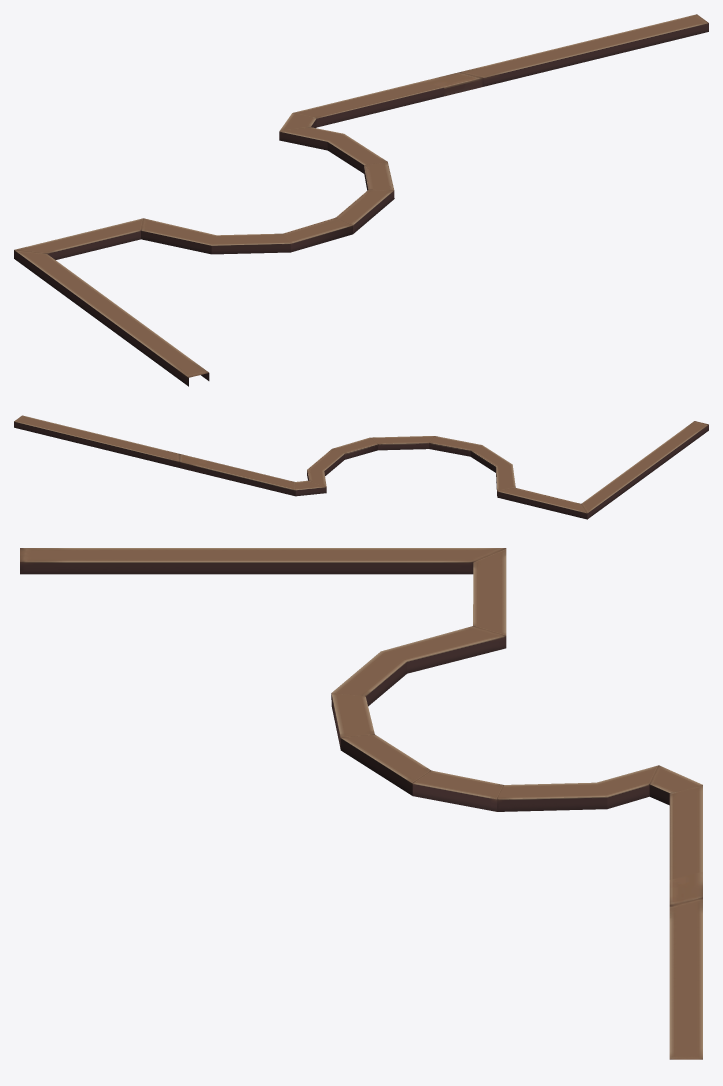
Rendered from cs_chengshi_gongyefb_005.FBX.
3 renders of one model, top to bottom at view 1: azimuth 30°, elevation 25°; view 2: azimuth 150°, elevation 25°; view 3: azimuth 270°, elevation 25°, orthographic. The views are drawn at different scales.
Parts seen in each view (by area): view 1: cs_chengshi_gongyefb_005; view 2: cs_chengshi_gongyefb_005; view 3: cs_chengshi_gongyefb_005.
Boxes of the visible parts, x1,y1,x2,y2 form: cs_chengshi_gongyefb_005: (14, 14, 708, 386); cs_chengshi_gongyefb_005: (14, 415, 708, 519); cs_chengshi_gongyefb_005: (20, 548, 702, 1059).
Size of the model in its own units: 581 by 328 by 6.78.
